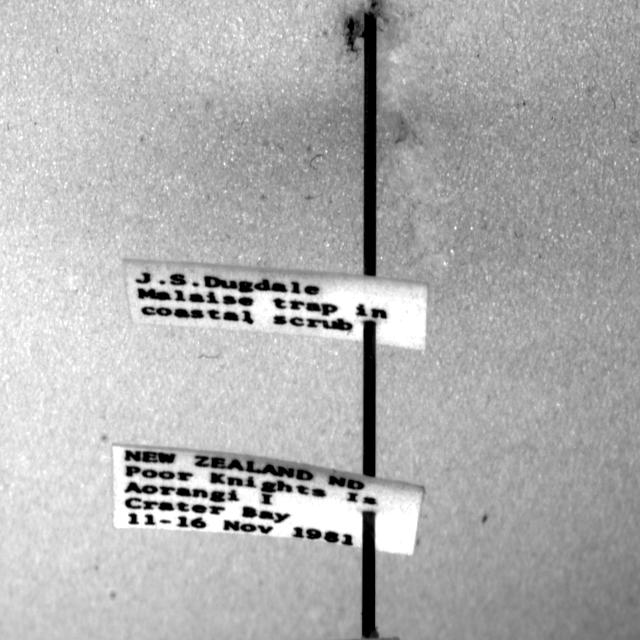typed_label: (112, 444, 424, 555), (125, 261, 428, 351)
